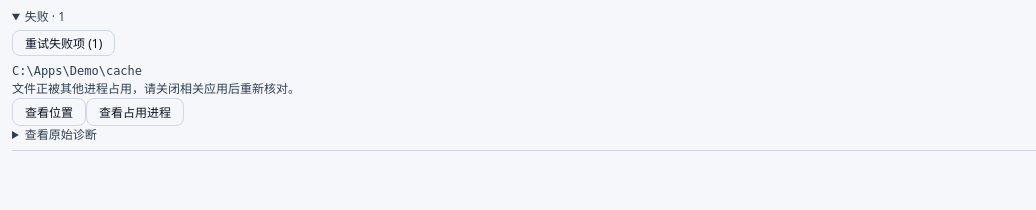
Test: surfaces a server refusal without retrying
Click the button "查看占用进程". click: (135, 112)
box: [86, 98, 184, 126]
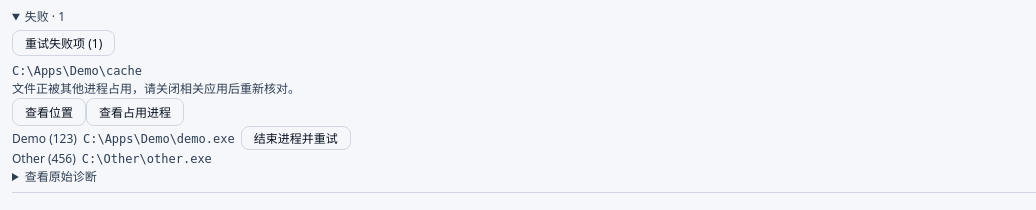
Check: the text "C:\\Apps\\Demo\\demo.exe" is shown, box [83, 132, 235, 146]
Click the button "结束进程并重试". click: (296, 138)
box: [241, 126, 351, 150]
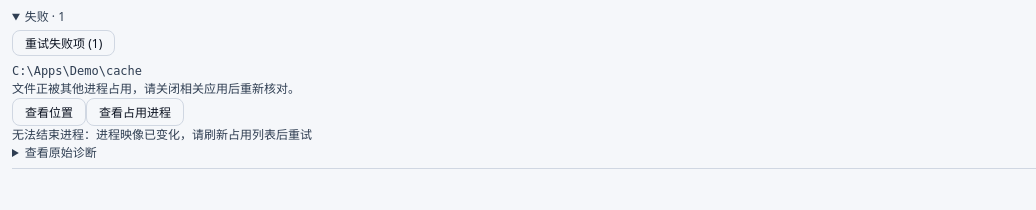
Check: the text "进程映像已变化，请刷新占用列表后重试" is shown, box [12, 126, 312, 143]
